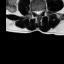CCS_normal: (37, 8, 39, 17)
LFS_normal: (41, 7, 44, 14)
LLS_normal: (39, 8, 41, 15)
RFS_normal: (33, 8, 35, 15)
RLS_normal: (35, 8, 37, 16)
